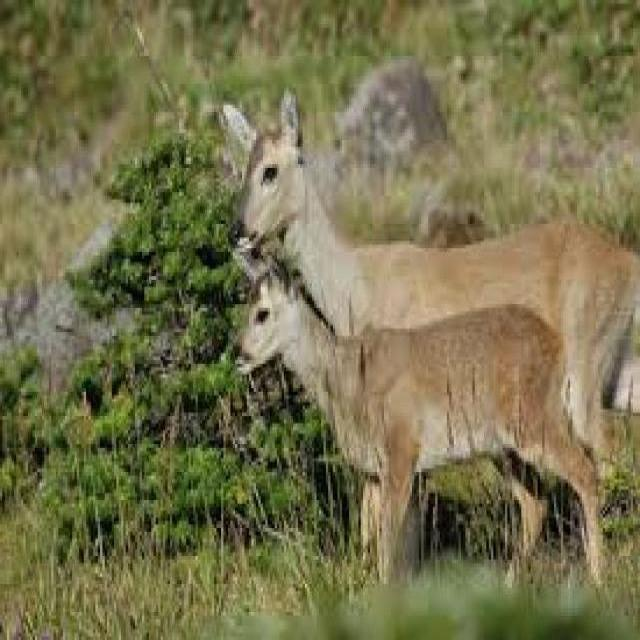deer: (222, 228, 602, 592), (211, 65, 640, 304)
